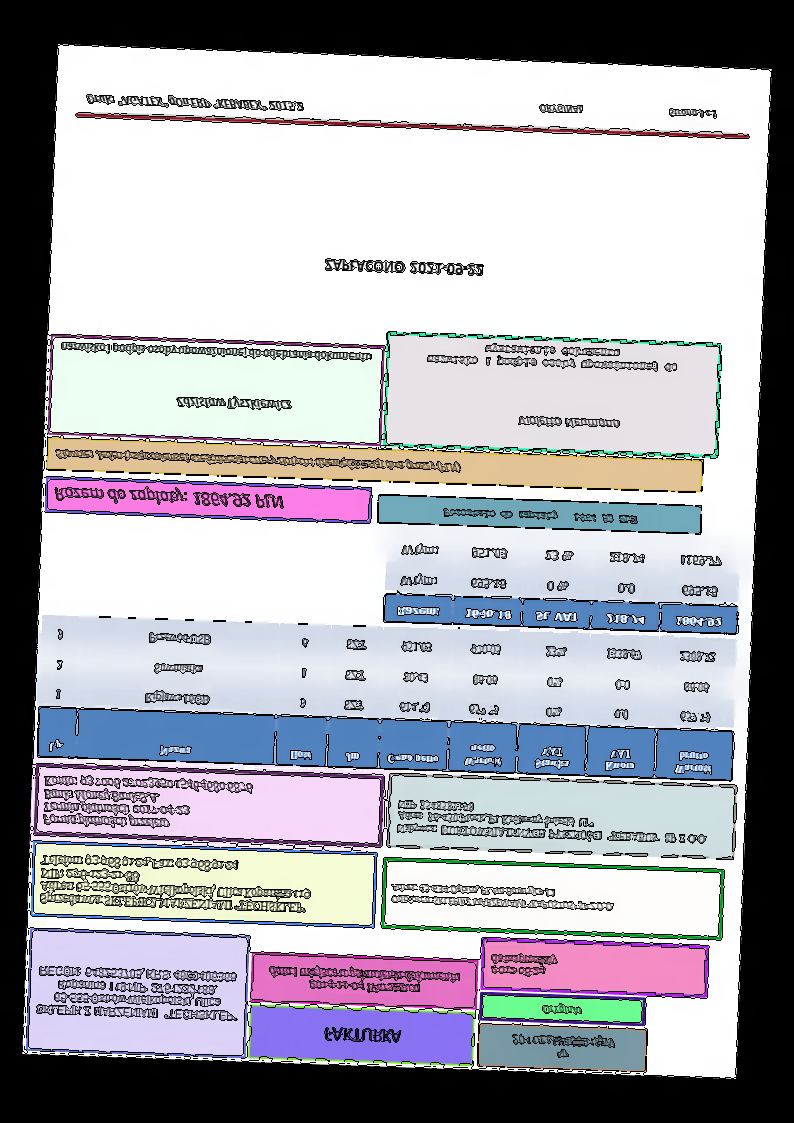Table: (34, 613, 737, 783), (381, 530, 741, 635)
TextBox: (36, 850, 315, 918), (393, 795, 710, 847), (39, 771, 256, 836), (33, 962, 240, 1025), (52, 445, 463, 476), (424, 340, 684, 377), (57, 339, 375, 367), (388, 880, 614, 916), (50, 481, 285, 512), (266, 962, 463, 997), (82, 90, 308, 117), (534, 101, 721, 123), (438, 507, 639, 527), (321, 256, 488, 280), (507, 1030, 618, 1064), (173, 393, 293, 417), (486, 949, 559, 981), (514, 412, 620, 434), (322, 1023, 405, 1046), (540, 1001, 585, 1018)
